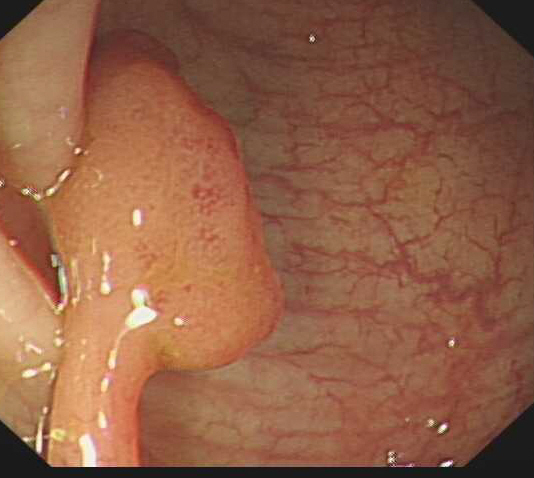others: (76, 27, 285, 375)
